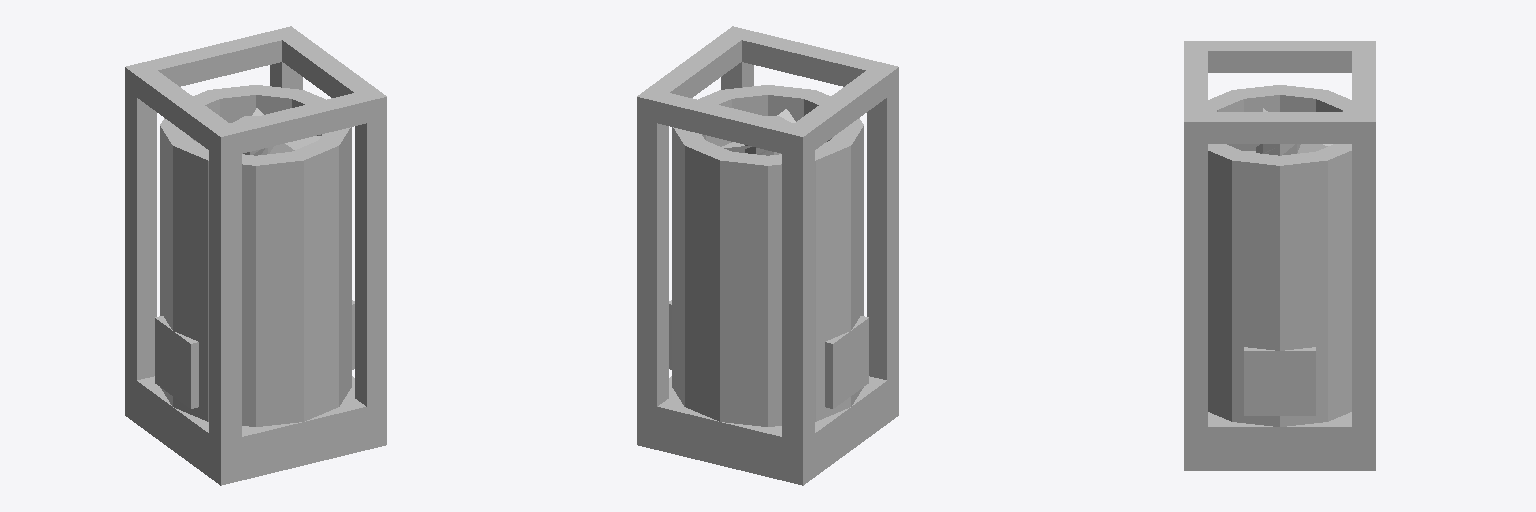
The model's file is air_scrubber.obj.
3 renders of one model, left to right at view 1: azimuth 30°, elevation 25°; view 2: azimuth 150°, elevation 25°; view 3: azimuth 270°, elevation 25°, orthographic.
Visible parts, largest first — view 1: Base, Fan; view 2: Base; view 3: Base, Fan.
Part boxes in pixels (x1,y1,x2,y2): Base: (125,26,386,485); Fan: (235,108,320,155); Base: (637,26,898,485); Base: (1184,41,1375,470); Fan: (1227,108,1332,155).
Bounding box in the file's own units: 1 × 2 × 1.